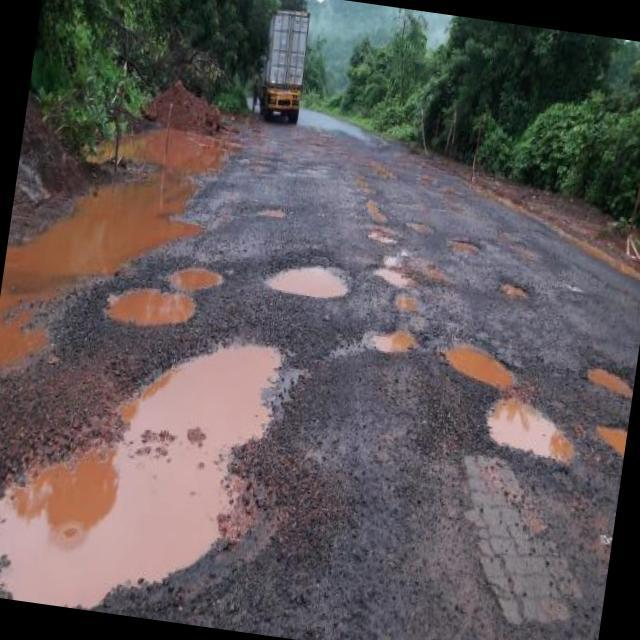Pothole: (0, 296, 307, 635), (0, 70, 254, 408), (480, 388, 588, 481), (100, 276, 207, 346), (254, 253, 369, 314), (437, 331, 533, 398), (575, 351, 638, 411), (160, 255, 230, 298), (361, 315, 431, 358), (371, 262, 431, 302), (487, 274, 538, 320), (588, 416, 628, 471), (389, 288, 428, 322), (248, 202, 300, 227), (360, 198, 398, 230), (442, 236, 488, 262), (404, 214, 441, 237), (362, 226, 396, 247)
